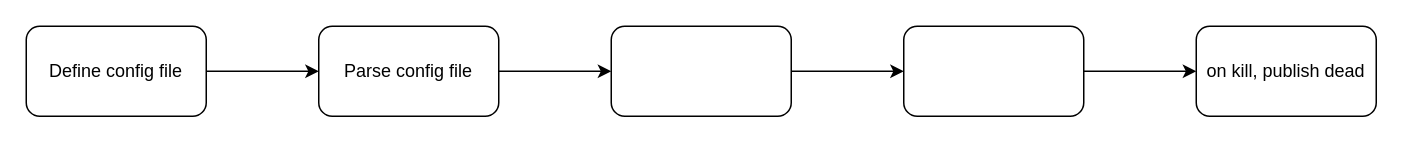
The diagram is 1403 pixels wide and 143 high, and some of its shapes have lost their labels. Each missing label, with the centre of its shape:
"go into listener/pub loop" belongs at pixel 993 70.
"Initiate mqtt connection & alive" belongs at pixel 700 70.
